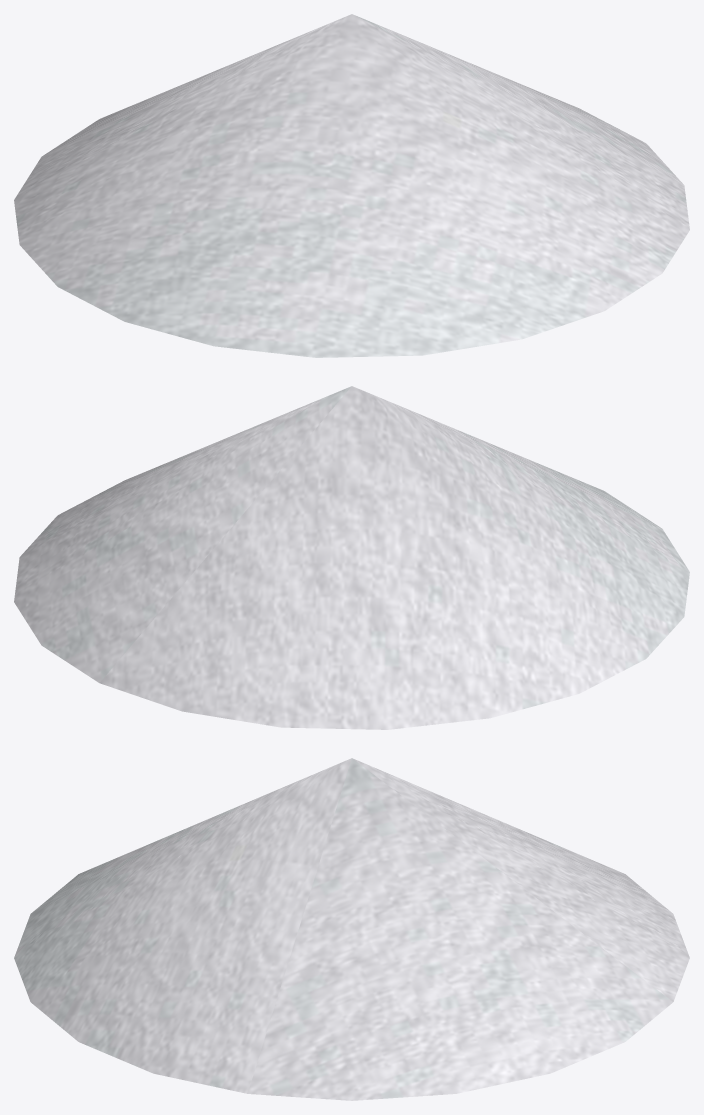
3 views of the same model, one above another, from view 1: azimuth 30°, elevation 25°; view 2: azimuth 150°, elevation 25°; view 3: azimuth 270°, elevation 25° (orthographic).
Parts seen in each view (by area): view 1: SM_样品; view 2: SM_样品; view 3: SM_样品.
Part boxes in pixels (x1,y1,x2,y2): SM_样品: (14, 14, 689, 357); SM_样品: (14, 386, 689, 729); SM_样品: (14, 758, 689, 1100).
Bounding box in the file's own units: 9.97 × 3.26 × 9.97.
1 material, 1 textured.
